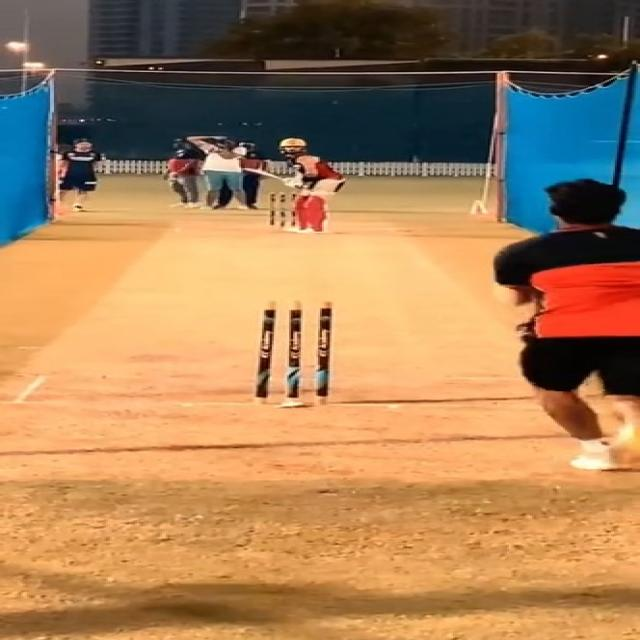batsman: (243, 137, 348, 234)
